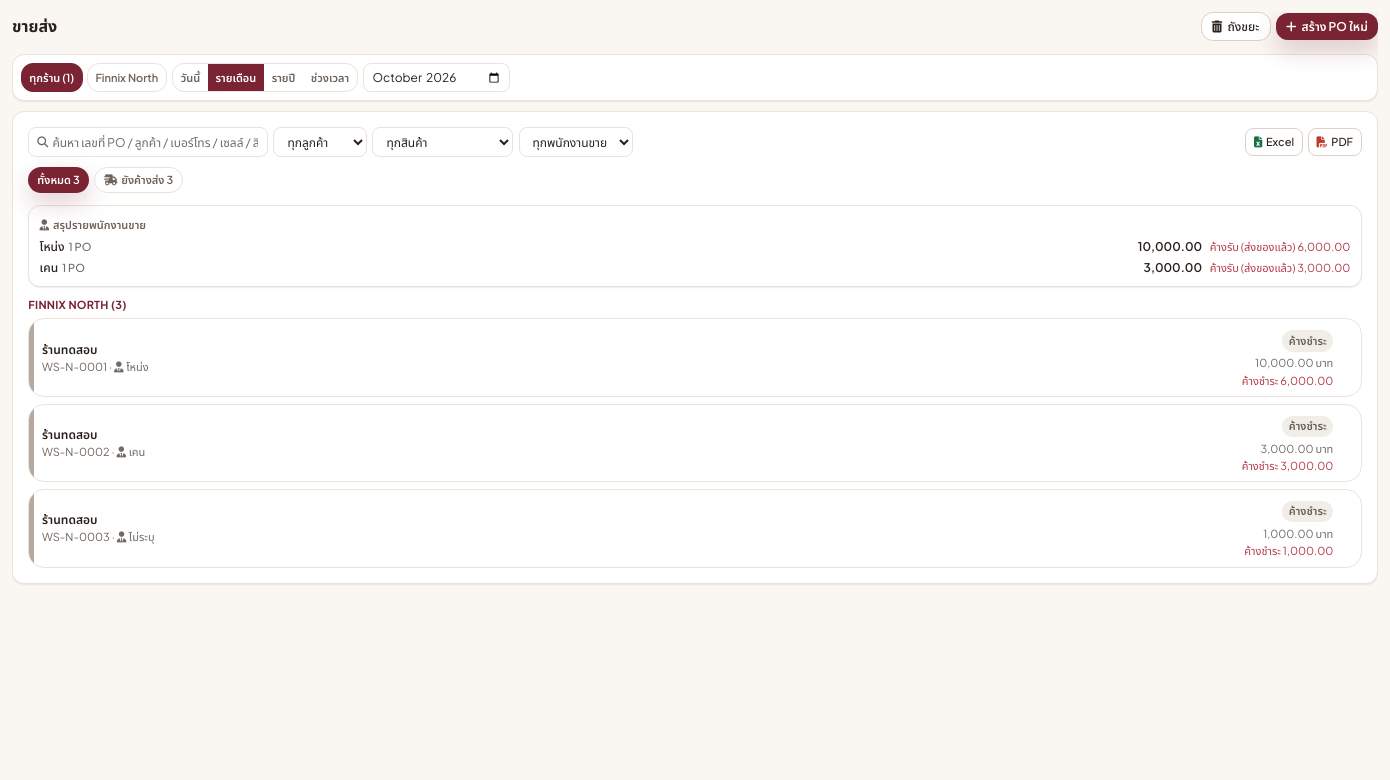
Test: WholesaleList — พนักงานขาย › สรุปนับเฉพาะรายการที่แสดงอยู่ ไม่ใช่ทั้งหมด
Select "เคน" in the dropdown named "กรองตามพนักงานขาย" at point(576, 142), box [518,128,633,157]
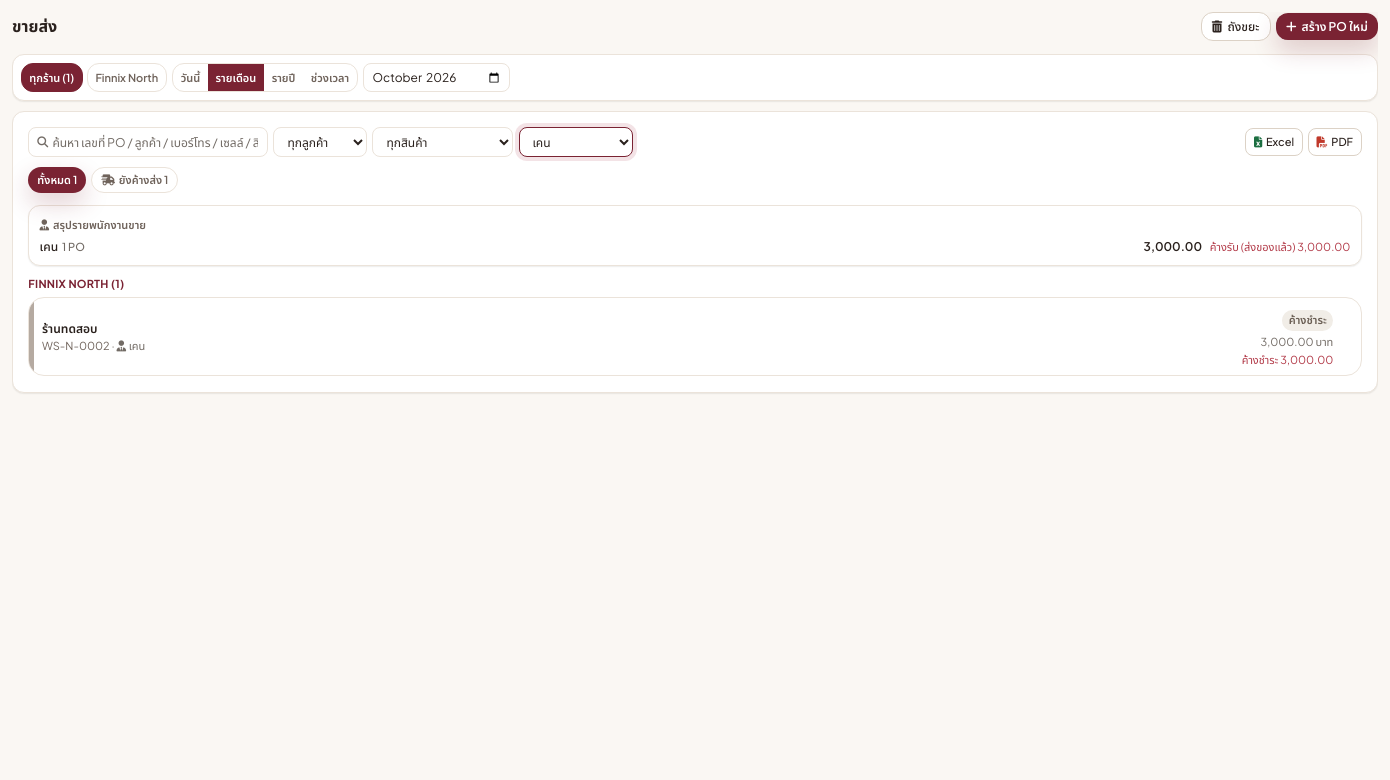
expect the text "เคน" is shown: met, box [40,239,58,254]
expect the text "โหน่ง" is gone: met
